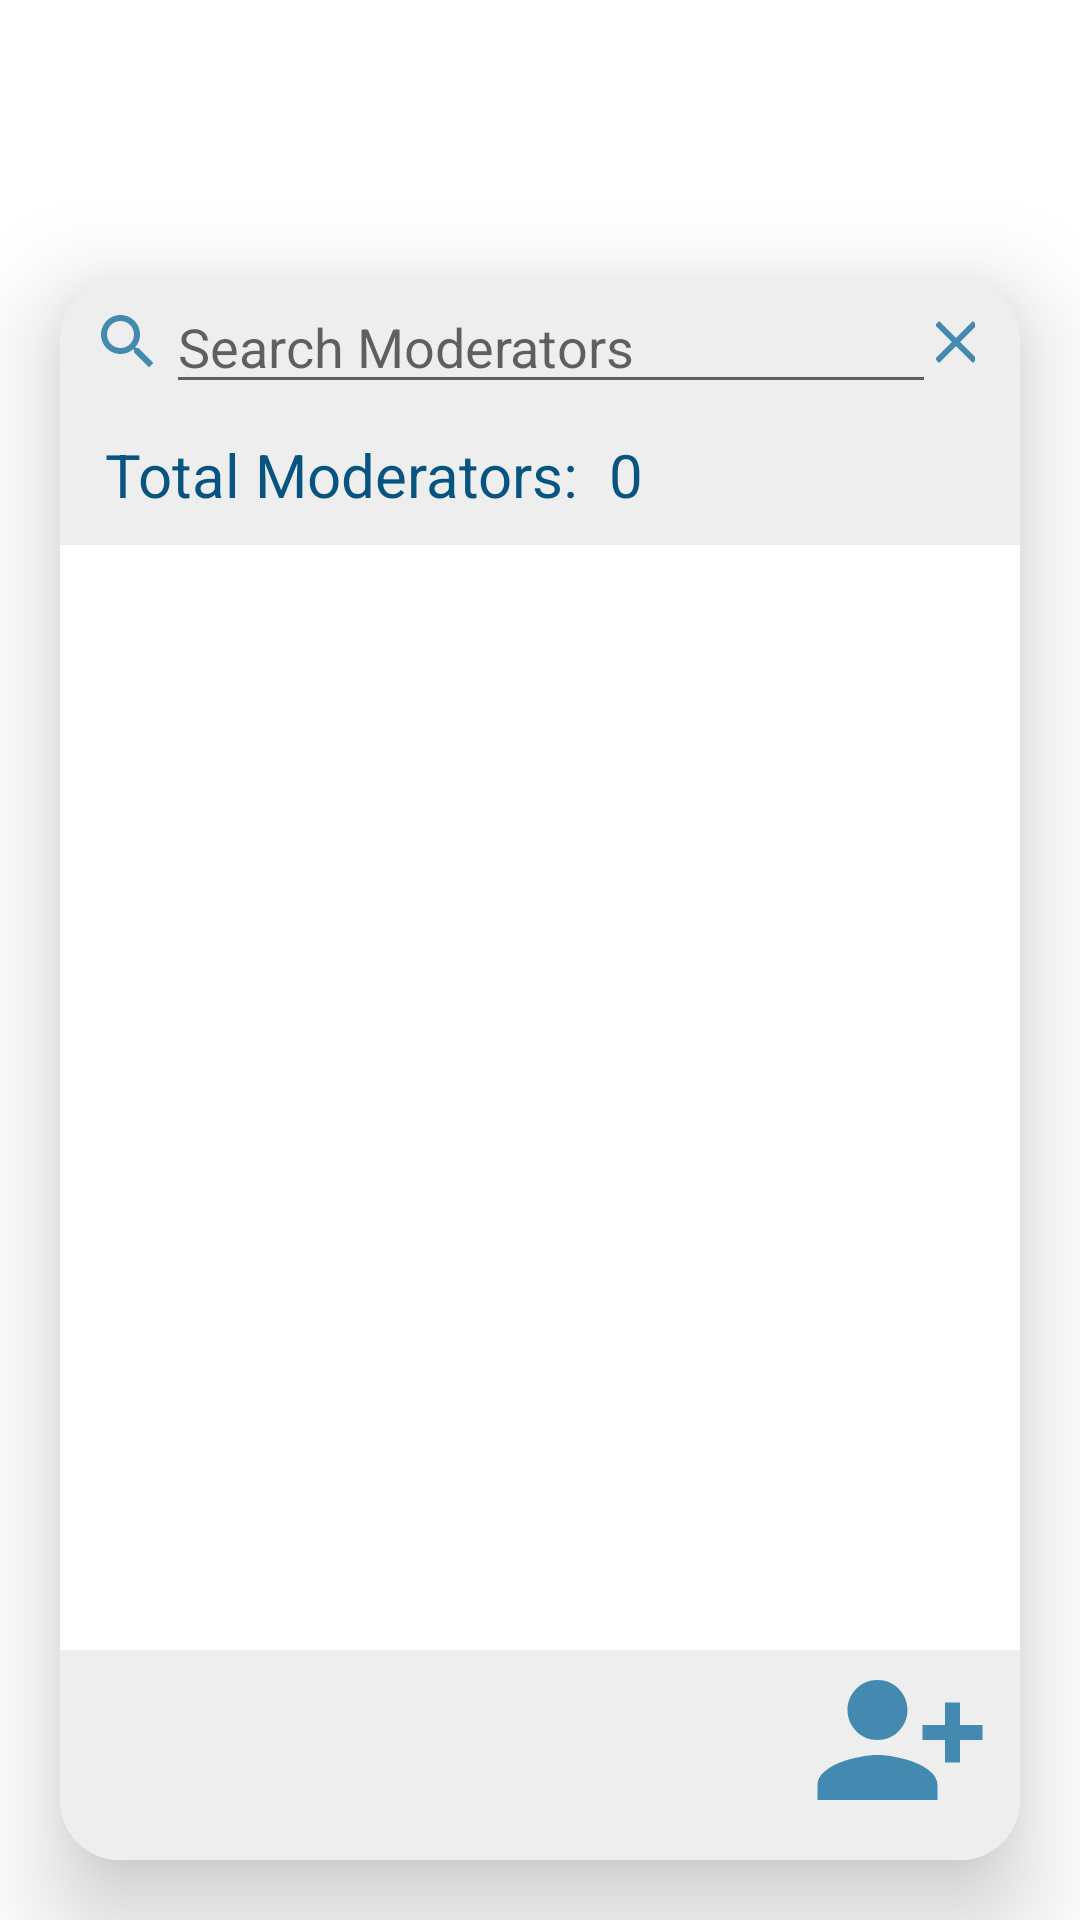

Point at icon controls on the screen. Image size 1080px x 1920px, points as (x=x, y=y).
add: (x=900, y=1740)
clear: (x=955, y=342)
